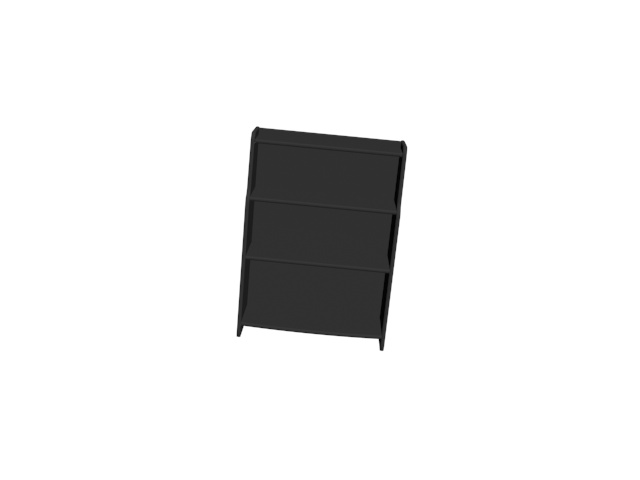bookcase: (233, 121, 408, 352)
